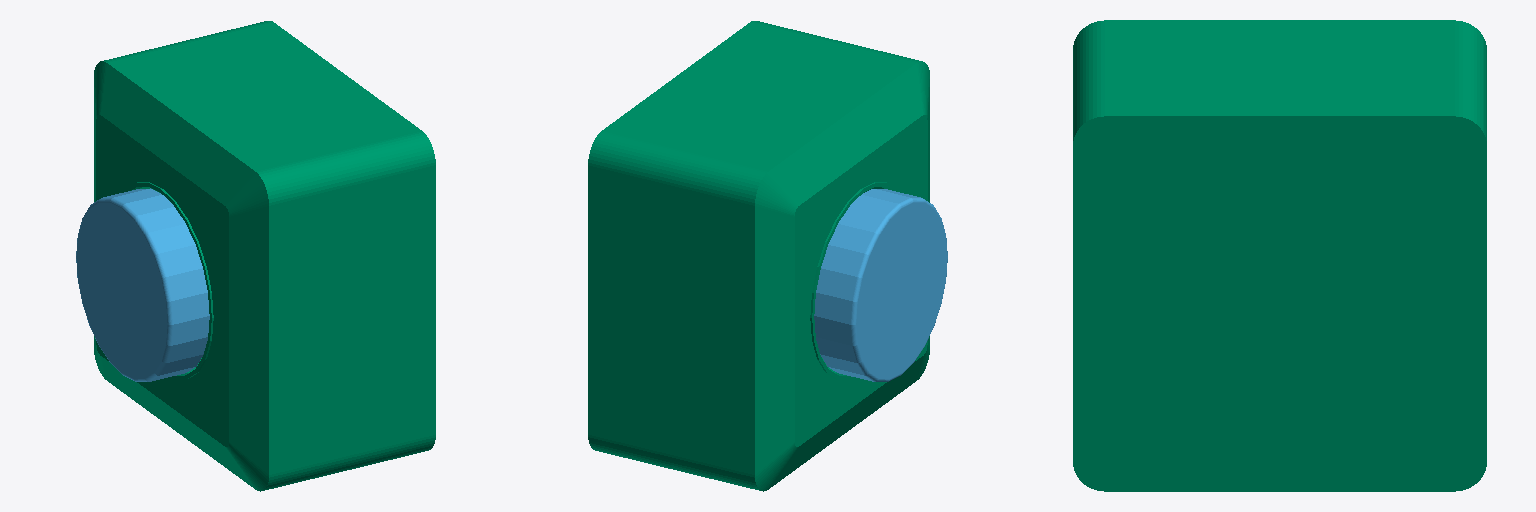
The robot description file, URDF, robot "partnet_693a88bbdbb6c607199f2eca998ded6d":
<?xml version="1.0" ?>
<robot name="partnet_693a88bbdbb6c607199f2eca998ded6d">
	<link name="base"/>
	<link name="link_0">
		<visual name="switch-1">
			<origin xyz="0.012274097321978567 0.007633000011528805 0"/>
			<geometry>
				<mesh filename="textured_objs/original-3.obj"/>
			</geometry>
		</visual>
		<collision>
			<origin xyz="0.012274097321978567 0.007633000011528805 0"/>
			<geometry>
				<mesh filename="textured_objs/original-3.obj"/>
			</geometry>
		</collision>
	</link>
	<joint name="joint_0" type="continuous">
		<origin xyz="-0.012274097321978567 -0.007633000011528805 0"/>
		<axis xyz="0 0 1"/>
		<child link="link_0"/>
		<parent link="link_1"/>
	</joint>
	<link name="link_1">
		<visual name="base_body-2">
			<origin xyz="0 0 0"/>
			<geometry>
				<mesh filename="textured_objs/original-2.obj"/>
			</geometry>
		</visual>
		<visual name="base_body-2">
			<origin xyz="0 0 0"/>
			<geometry>
				<mesh filename="textured_objs/original-1.obj"/>
			</geometry>
		</visual>
		<collision>
			<origin xyz="0 0 0"/>
			<geometry>
				<mesh filename="textured_objs/original-2.obj"/>
			</geometry>
		</collision>
		<collision>
			<origin xyz="0 0 0"/>
			<geometry>
				<mesh filename="textured_objs/original-1.obj"/>
			</geometry>
		</collision>
	</link>
	<joint name="joint_1" type="fixed">
		<origin rpy="1.570796326794897 0 -1.570796326794897" xyz="0 0 0"/>
		<child link="link_1"/>
		<parent link="base"/>
	</joint>
</robot>

--- Facts derived from the render (not from the file) ---
Views: 3 orthographic renders of the robot side by side, from view 1: azimuth 30°, elevation 25°; view 2: azimuth 150°, elevation 25°; view 3: azimuth 270°, elevation 25°.
Robot: partnet_693a88bbdbb6c607199f2eca998ded6d — 3 links, 2 joints (1 continuous, 1 fixed); root link base; default pose: all joints at 0.
Links seen in each view (by area): view 1: link_1, link_0; view 2: link_1, link_0; view 3: link_1.
Boxes of the visible links, x1,y1,x2,y2 form: link_1: (94, 21, 435, 491); link_0: (76, 188, 209, 381); link_1: (588, 21, 929, 491); link_0: (814, 189, 947, 381); link_1: (1073, 20, 1486, 491).
Bounding box of the posed robot: 0.9968 × 1.34 × 1.34 m (x, y, z).
Meshes: 3 distinct files referenced, 3 mesh visuals loaded (3 OBJ).